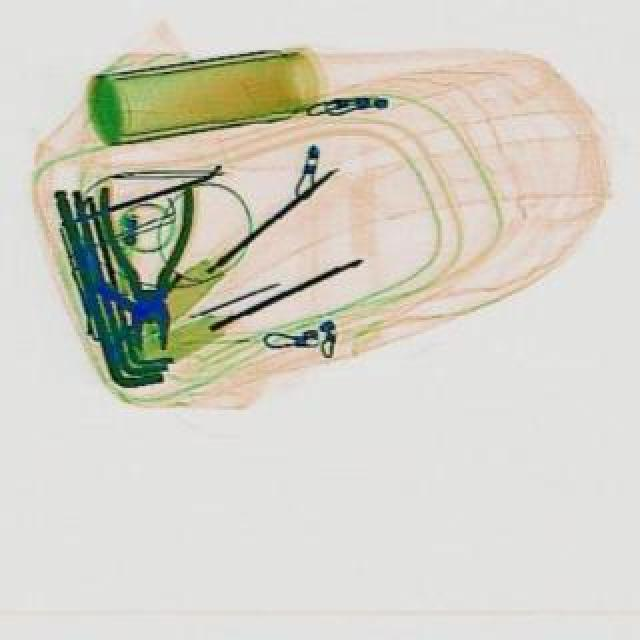wrench: (104, 182, 204, 354)
